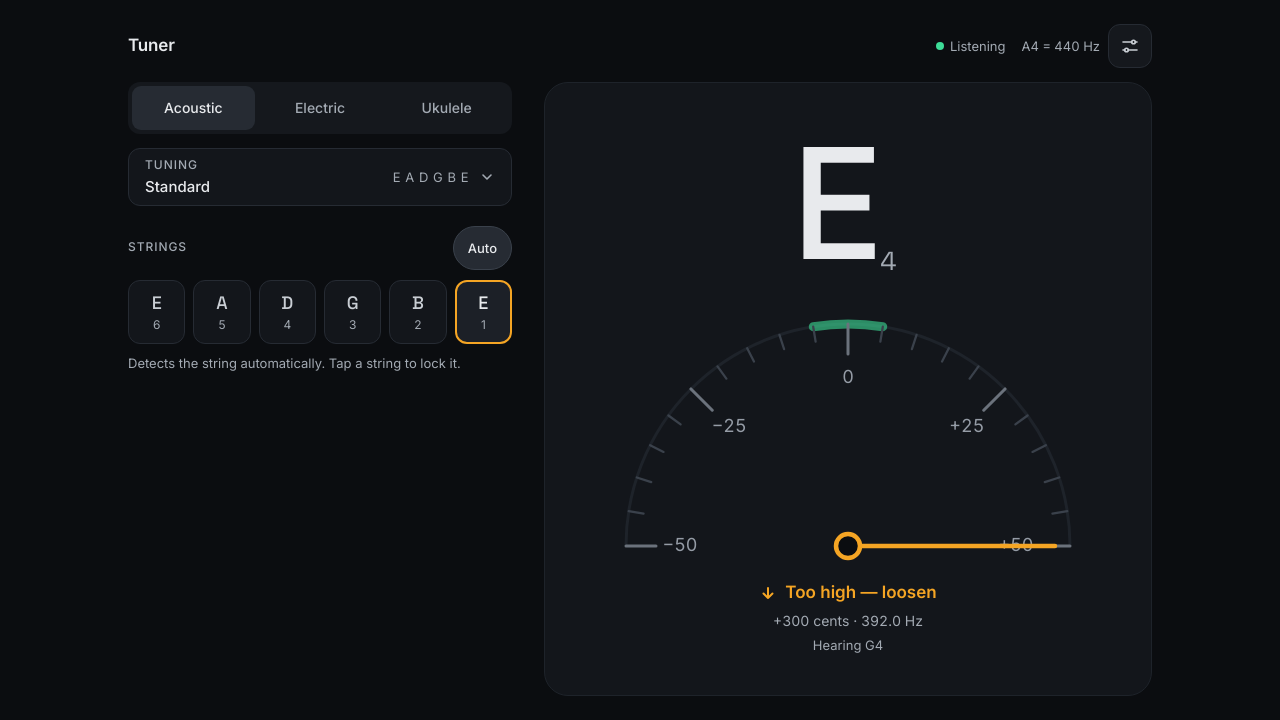
Test: App › switches instrument and locks a string manually
Click the button "Ukulele".
click(447, 108)  # box [385,86,508,130]
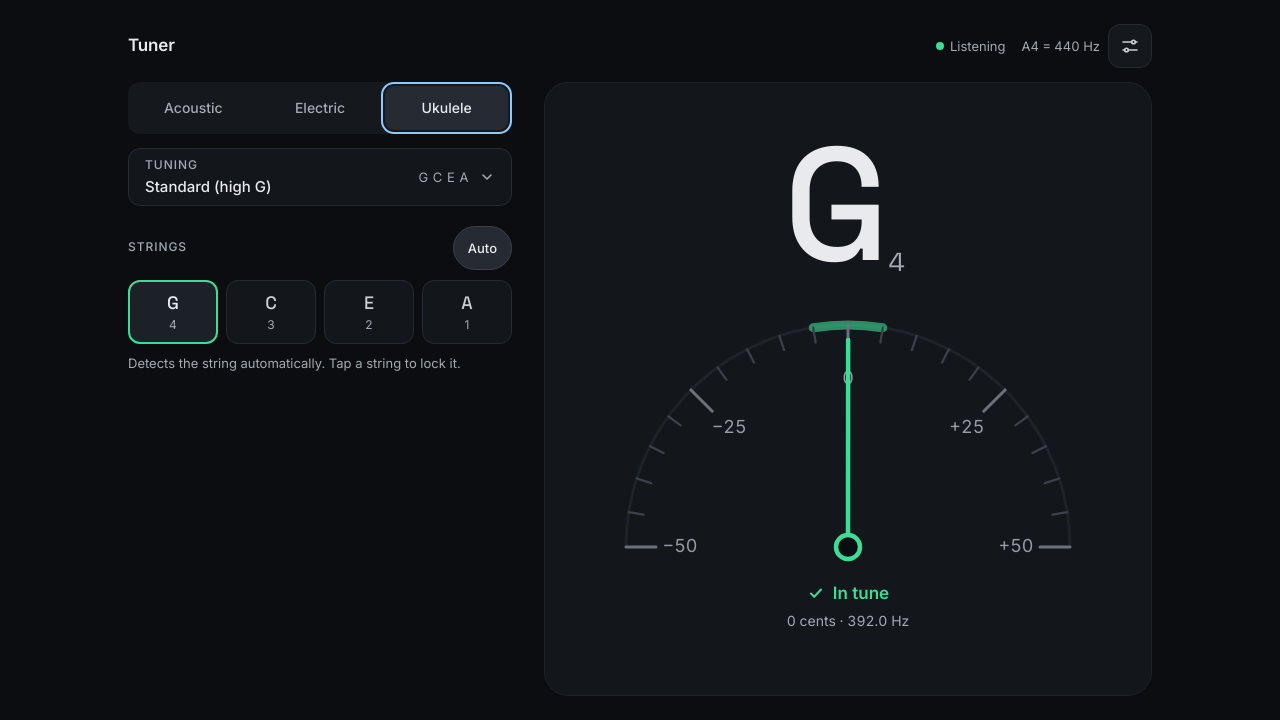
Check: the button "Ukulele" is pressed, box [385,86,508,130]
Click the button named "String 1, A 4".
click(467, 312)  # box [422,280,512,344]
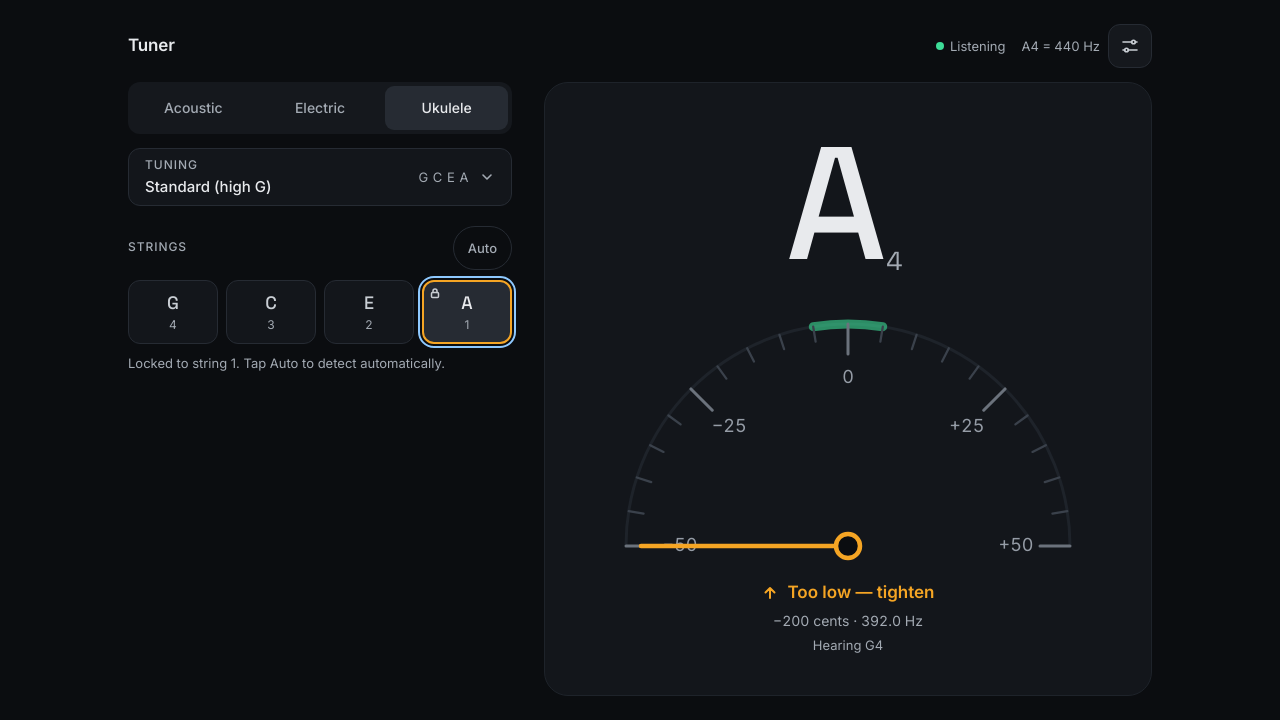
Check: the button named "String 1, A 4" is pressed, box [422,280,512,344]
Check: the button "Auto" is not pressed, box [453,226,512,270]
Check: the element showing "−50 −25 0 +25 +50" has attribute aria-valuenow="-50", box [608,288,1088,573]
